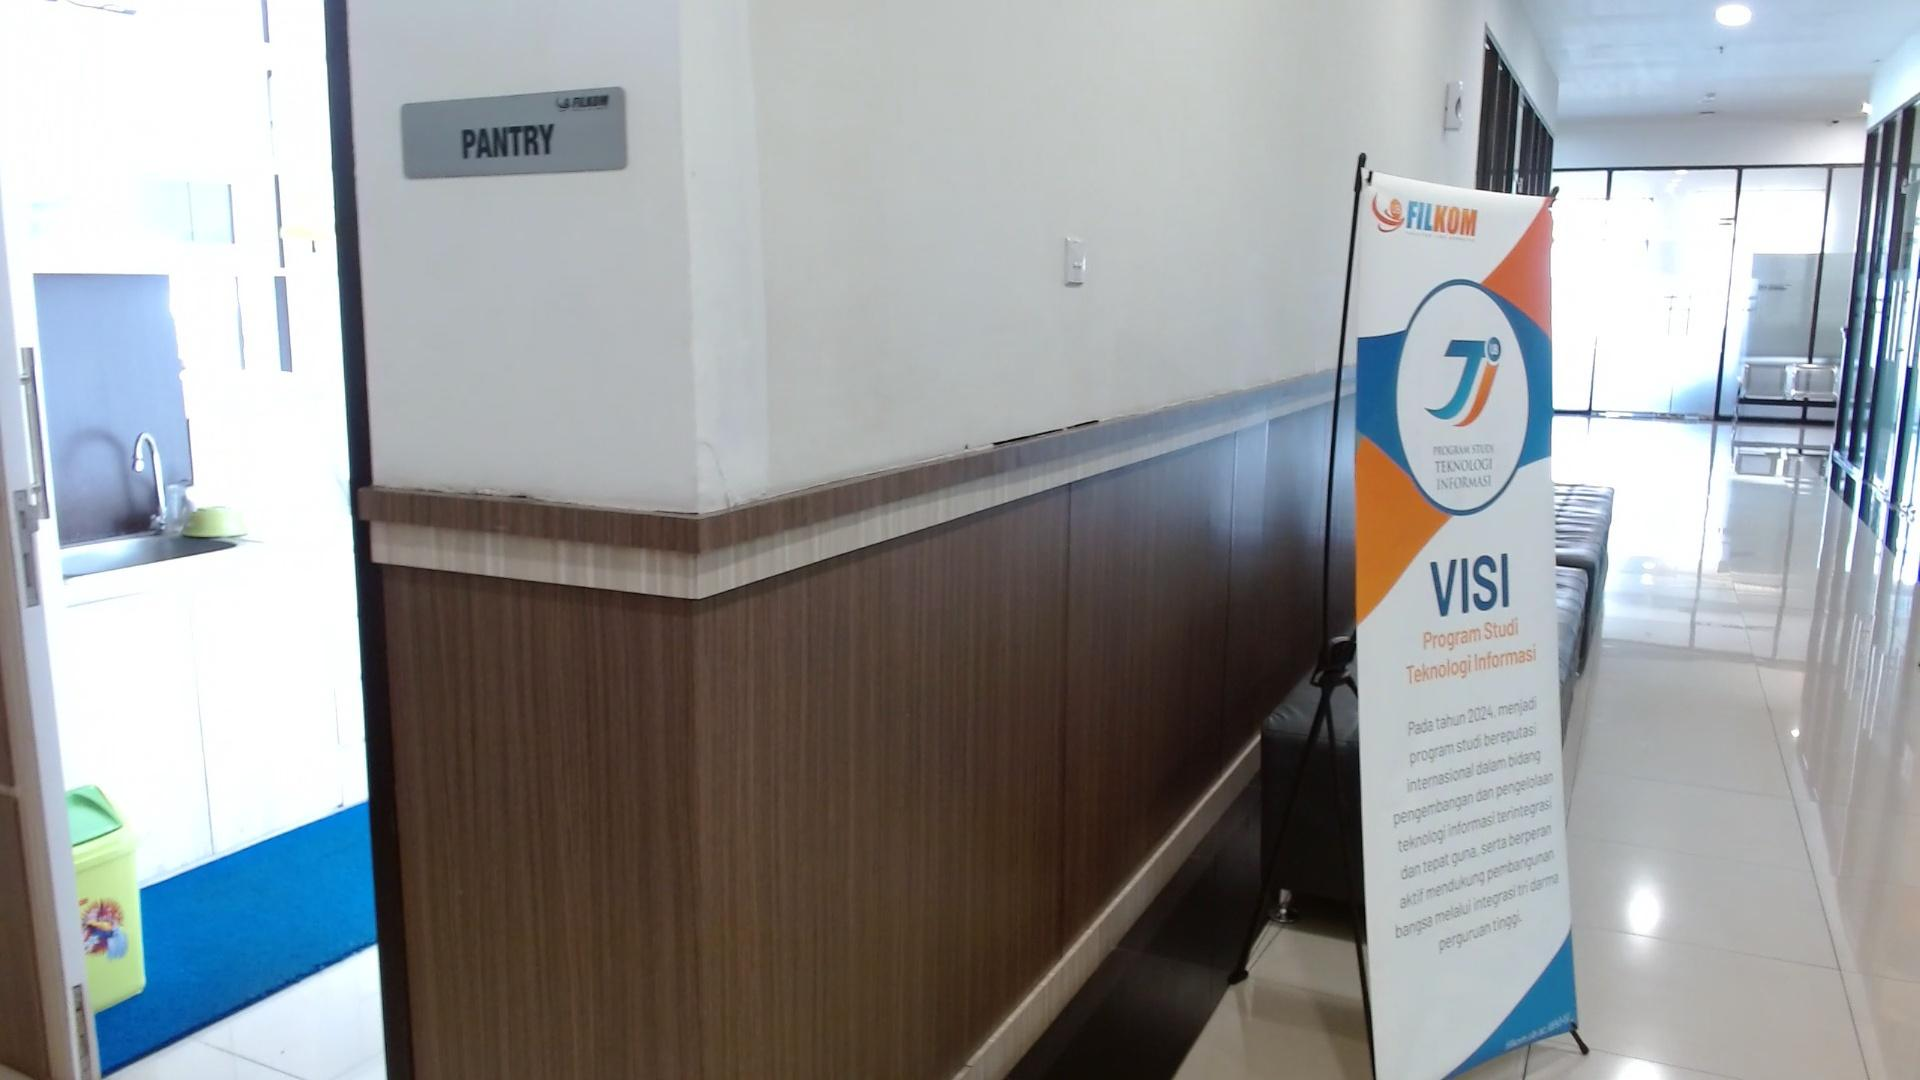plate: (401, 87, 628, 181)
